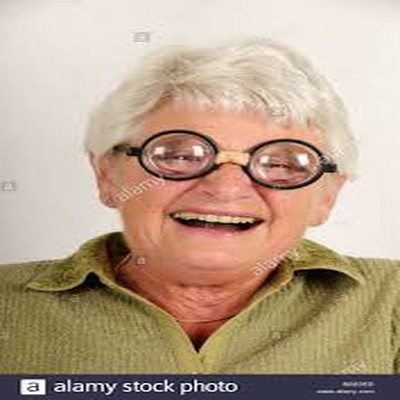eywear: (109, 94, 334, 201)
